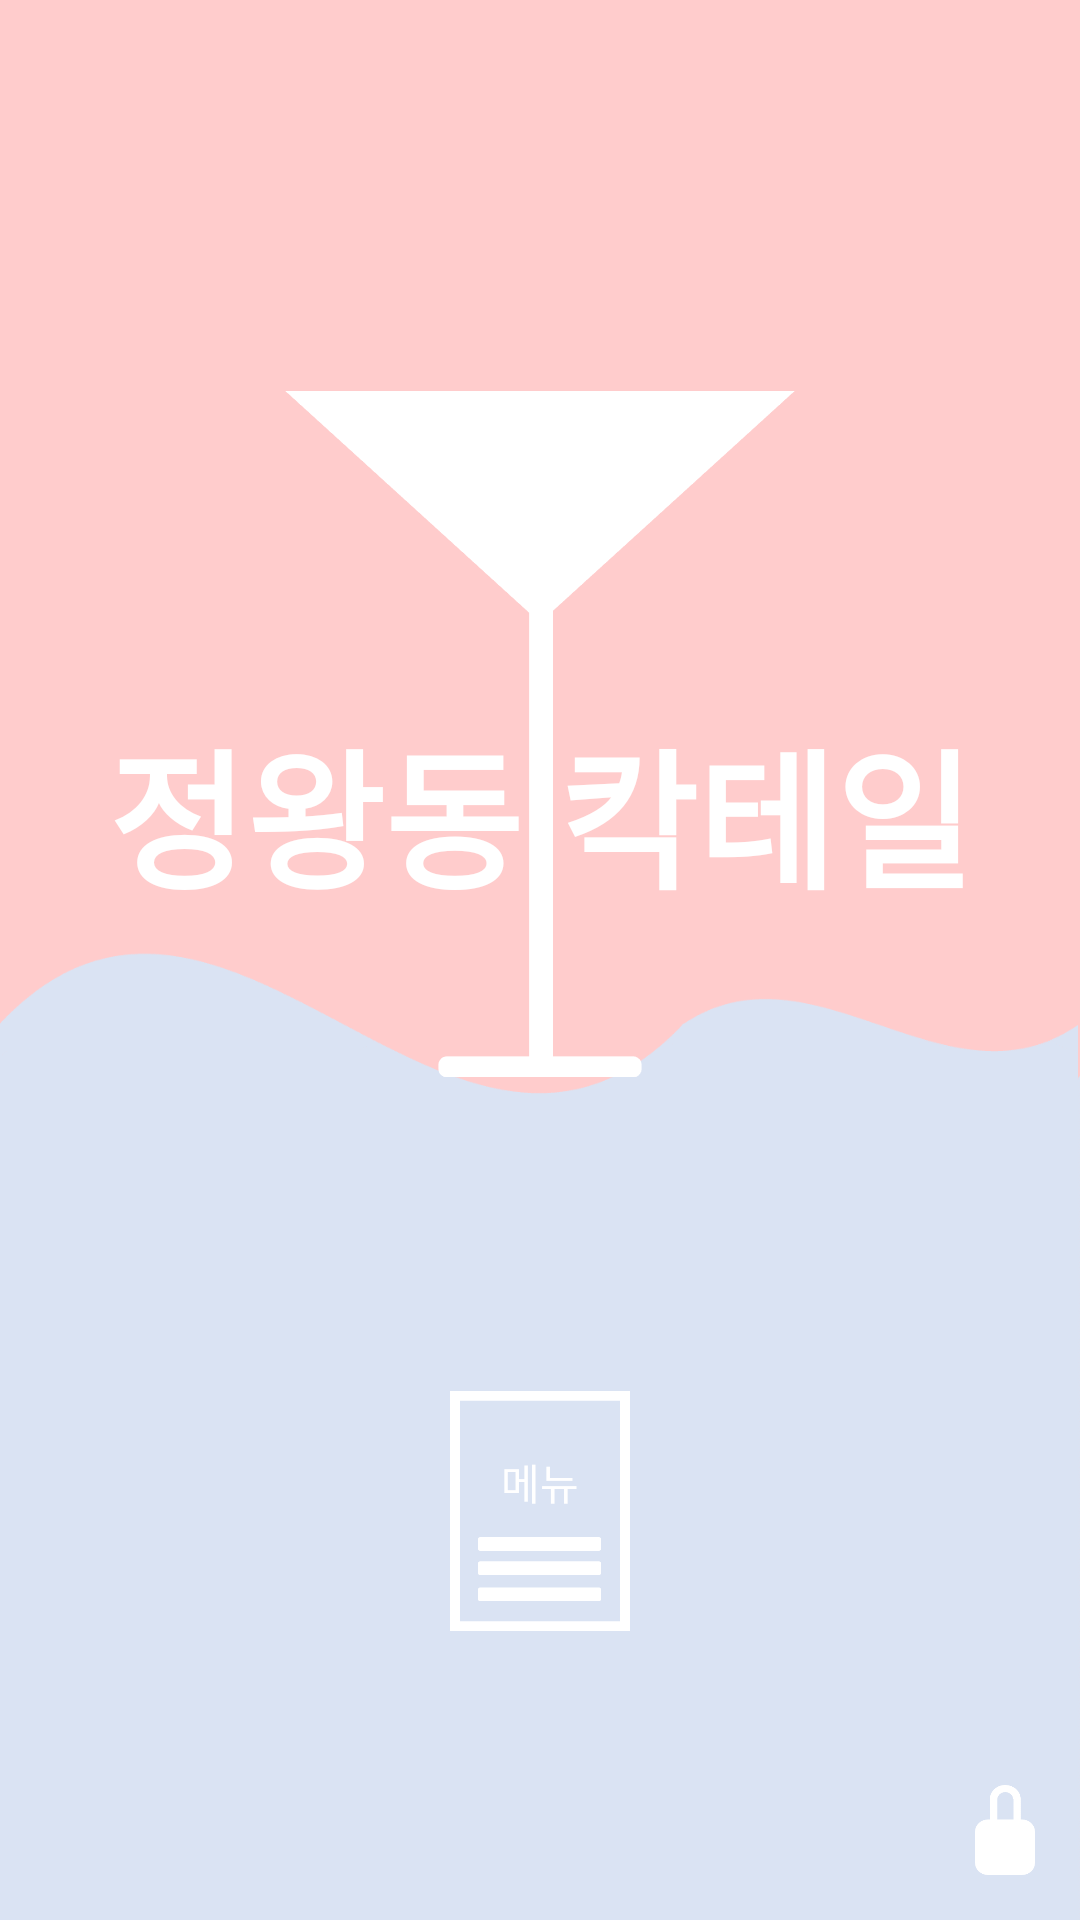

Icon bounding boxes for this 1080 × 1920 phone screenshot, format (x1, y1, x2, y2):
lock closed: (975, 1785, 1035, 1875)
